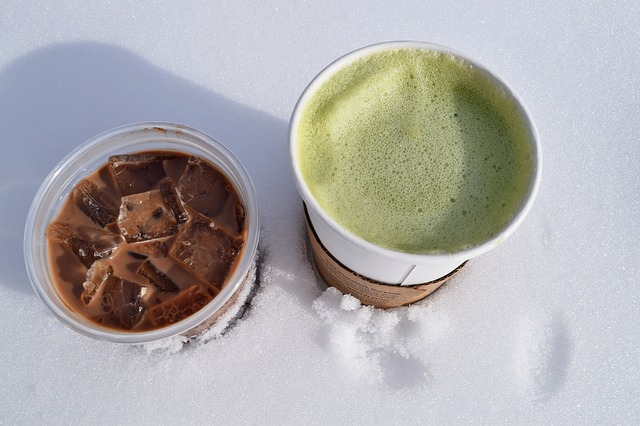cup: (280, 30, 556, 321), (17, 114, 275, 361)
